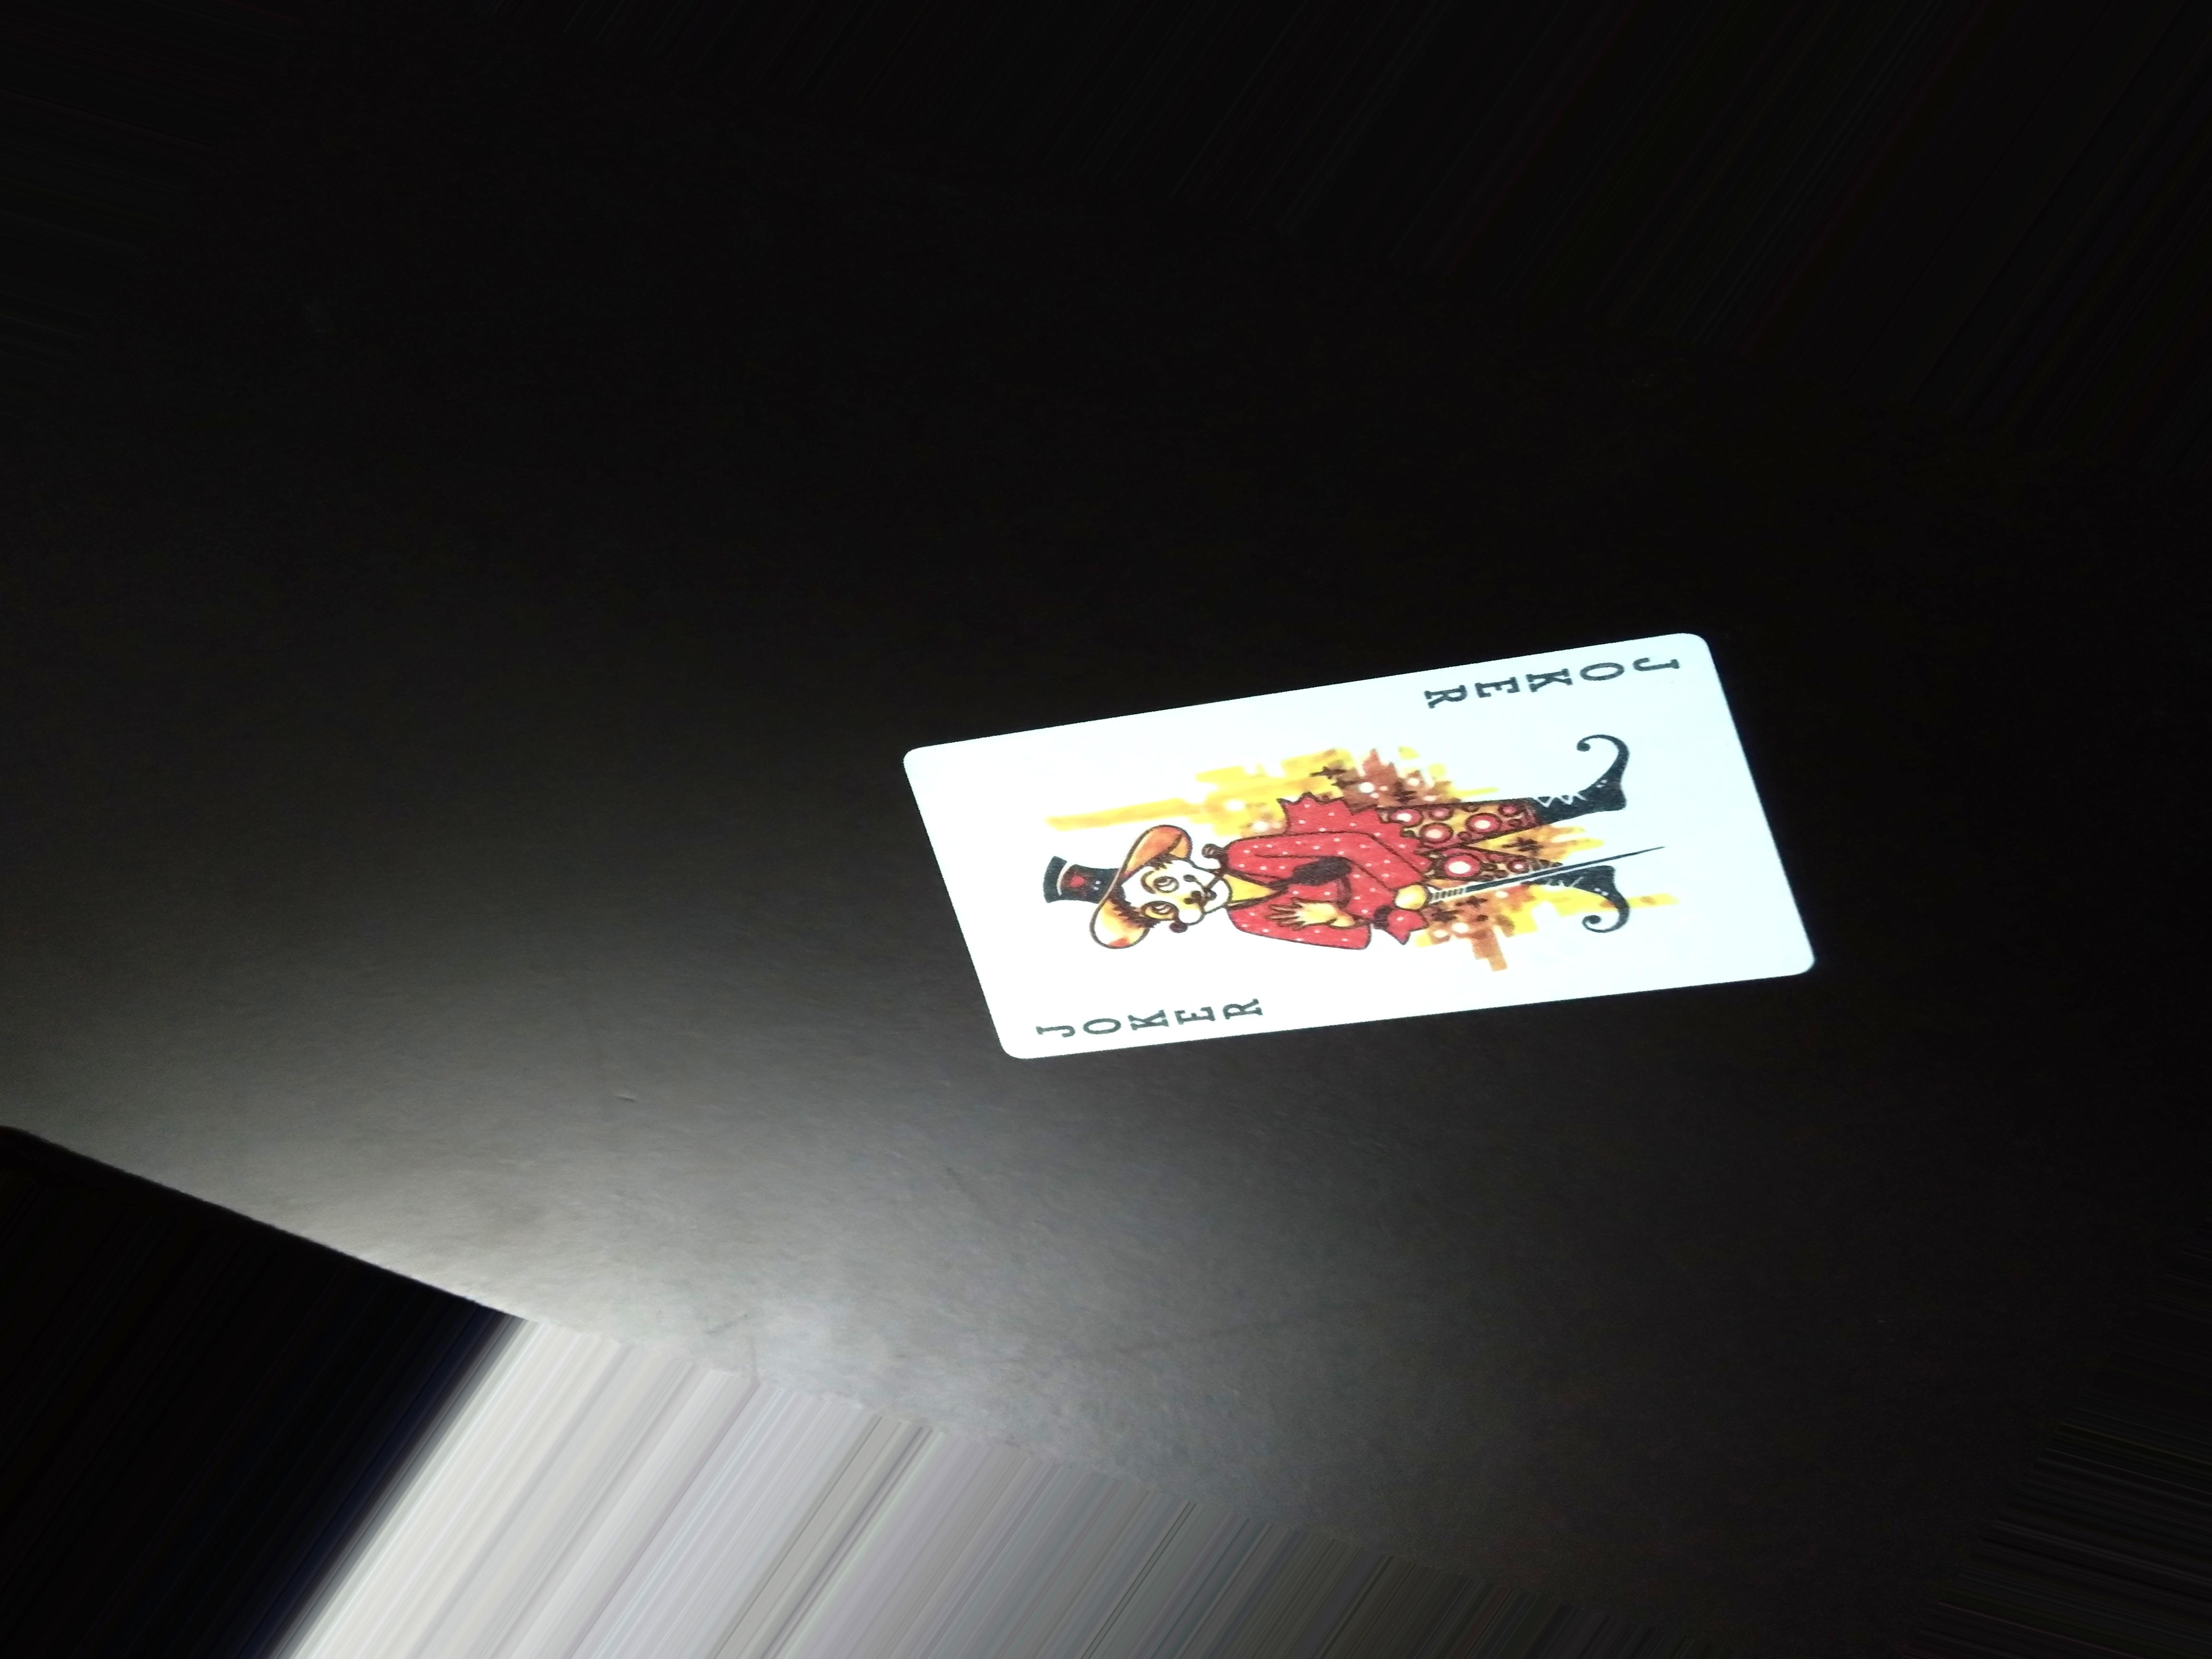JOKER: (1411, 648, 1689, 716)
